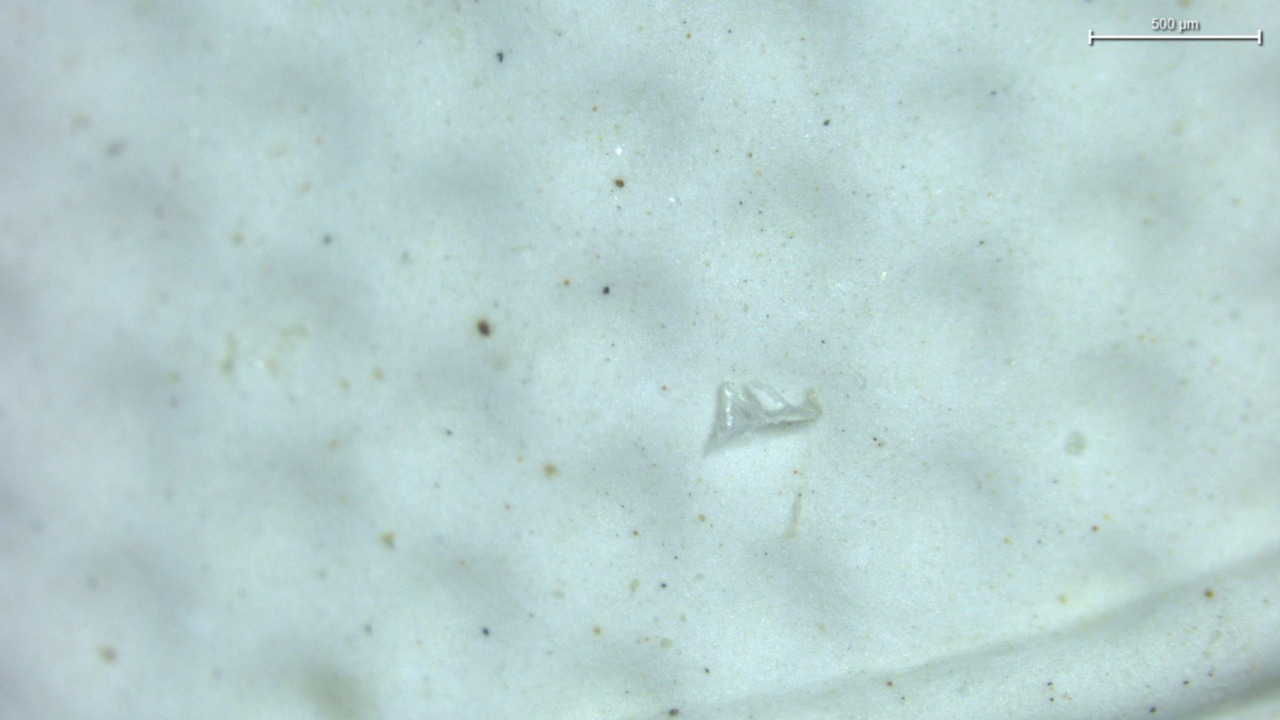microplastic_fragment: (705, 383, 822, 455)
